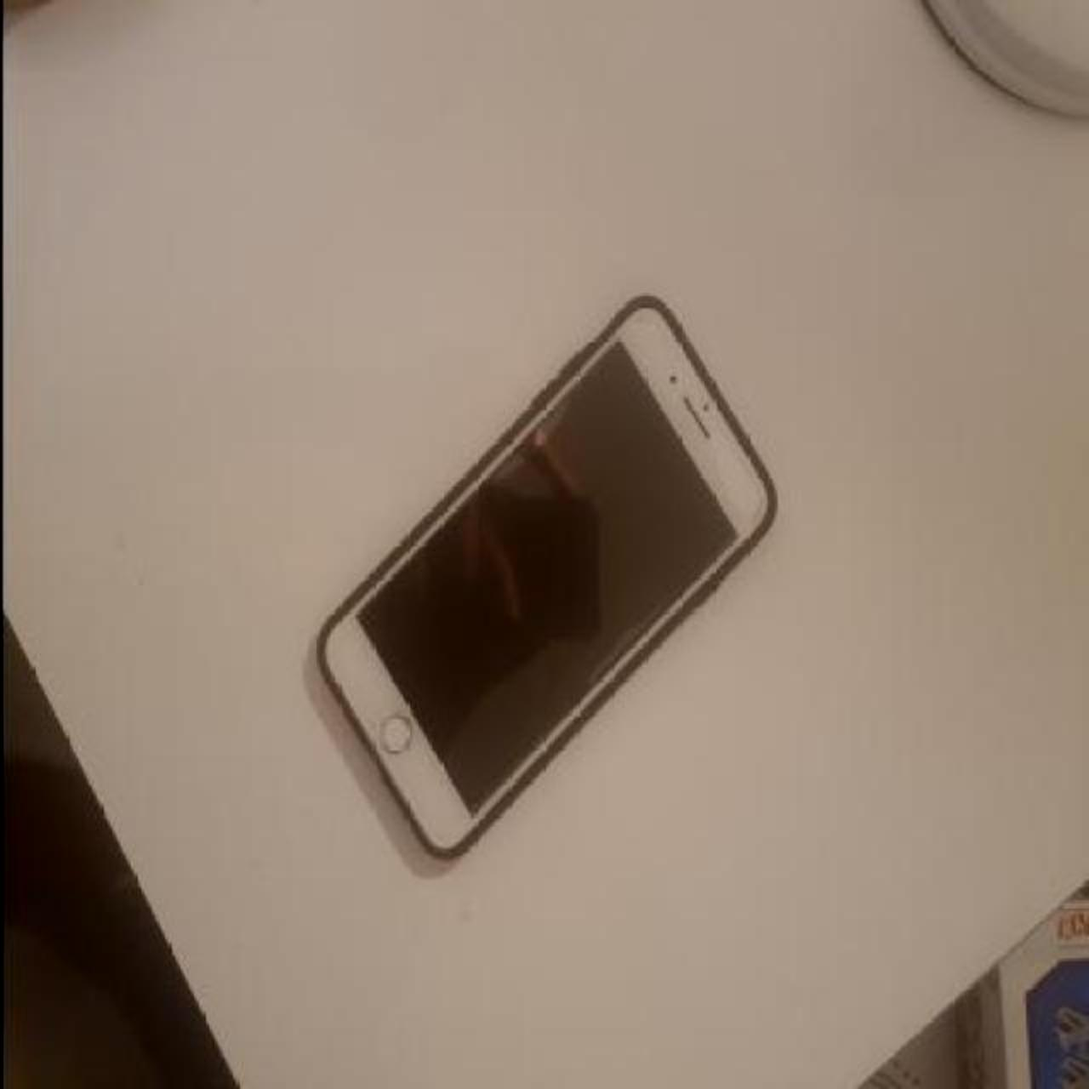phone: (313, 296, 784, 869)
